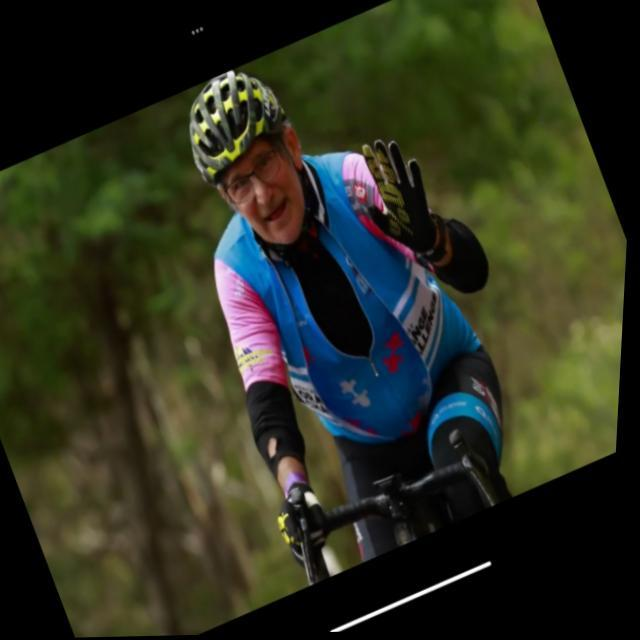Helmet: (170, 48, 322, 262)
